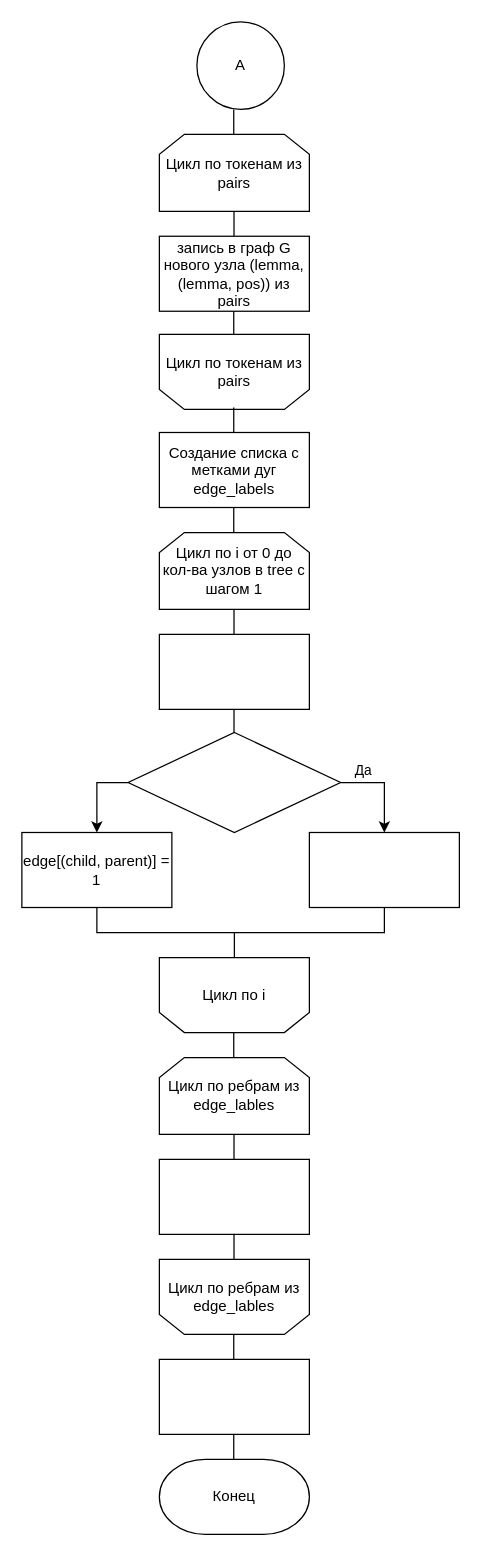
Image size: 481x1556. Some labels were removed from this diagram. Each missing label, with the centre of its shape:
"(child, parent) уже есть в списке edge_lables?" belongs at (x=234, y=781).
"child и parent - леммы слов tree[i]" belongs at (x=233, y=671).
"edge[(child, parent)] += 1" belongs at (x=383, y=869).
"Вывод графа G на экран" belongs at (x=233, y=1396).
"добавление в G соответствующего ребра" belongs at (x=233, y=1196).
